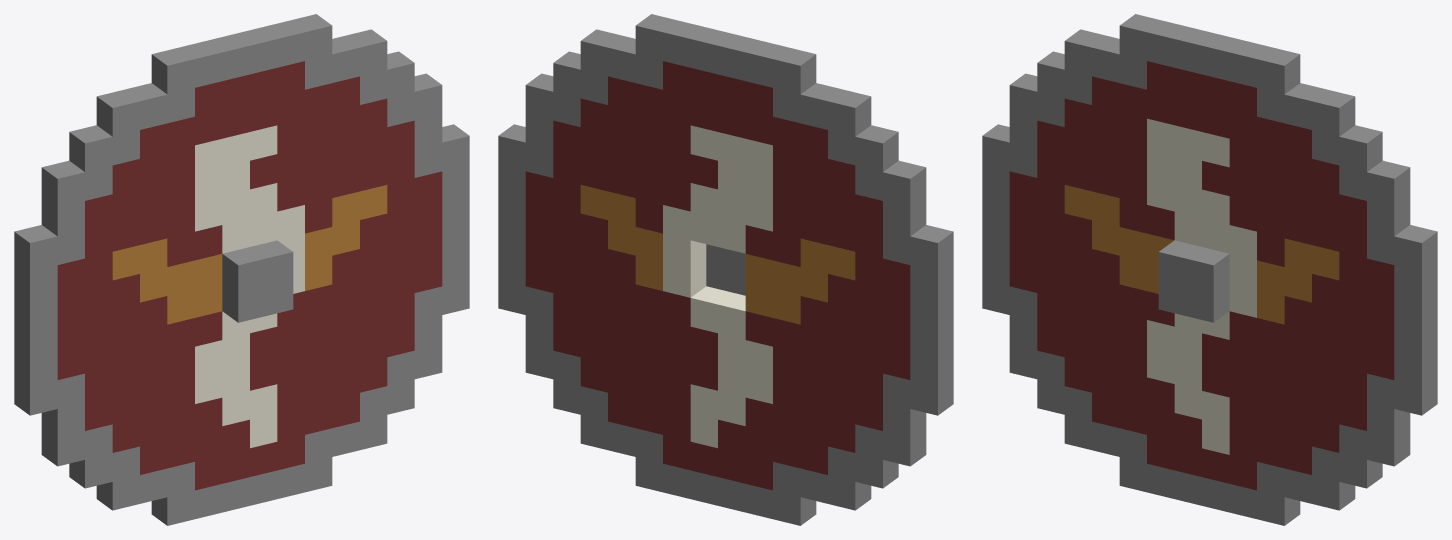
File: character-36-shield_med_3_du_color.obj
3 views of the same model, side by side, from view 1: azimuth 30°, elevation 25°; view 2: azimuth 150°, elevation 25°; view 3: azimuth 330°, elevation 25° (orthographic).
Visible parts, largest first — view 1: shield_med_3_du_color; view 2: shield_med_3_du_color; view 3: shield_med_3_du_color.
Boxes of the visible parts, bbox=[...] form: shield_med_3_du_color: bbox=[14, 14, 469, 525]; shield_med_3_du_color: bbox=[498, 14, 953, 525]; shield_med_3_du_color: bbox=[982, 14, 1437, 525].
Bounding box in the file's own units: 1.6 × 1.6 × 0.2.
Materials: 1 (1 with a texture image).
